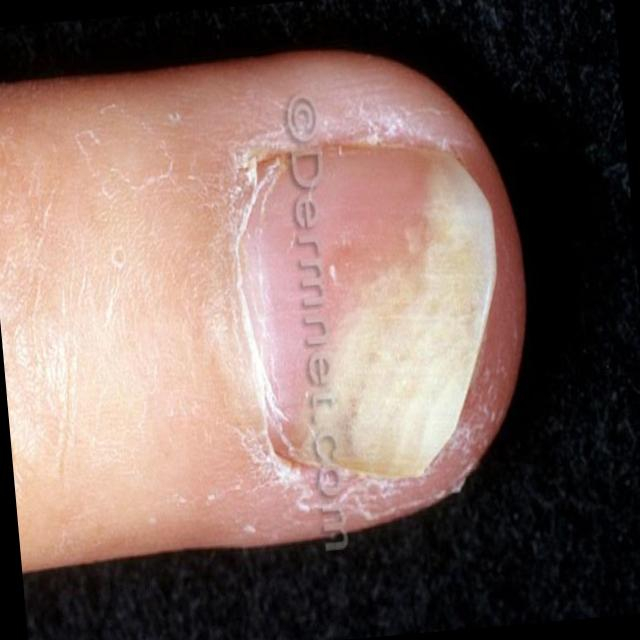Nail: (231, 148, 494, 478)
